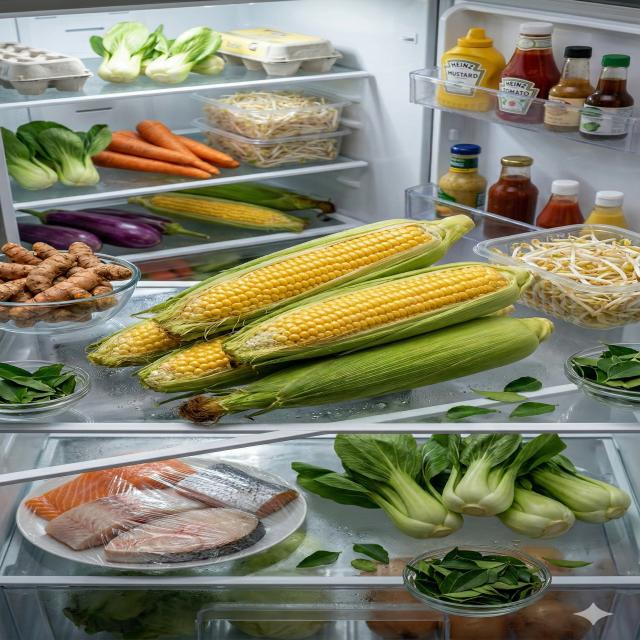bean_sprouts: (494, 224, 640, 328), (203, 89, 339, 168)
carrot: (90, 120, 241, 179)
corn: (82, 214, 556, 426), (127, 182, 336, 234)
curry_leaves: (405, 546, 547, 612), (0, 362, 78, 417), (570, 340, 640, 392)
egg: (216, 28, 344, 76), (0, 41, 94, 95)
eggplant: (17, 208, 212, 252)
fish: (24, 458, 300, 564)
pakchoy: (291, 434, 633, 540), (89, 22, 224, 84), (0, 120, 113, 190)
turmeric: (0, 242, 134, 328)
